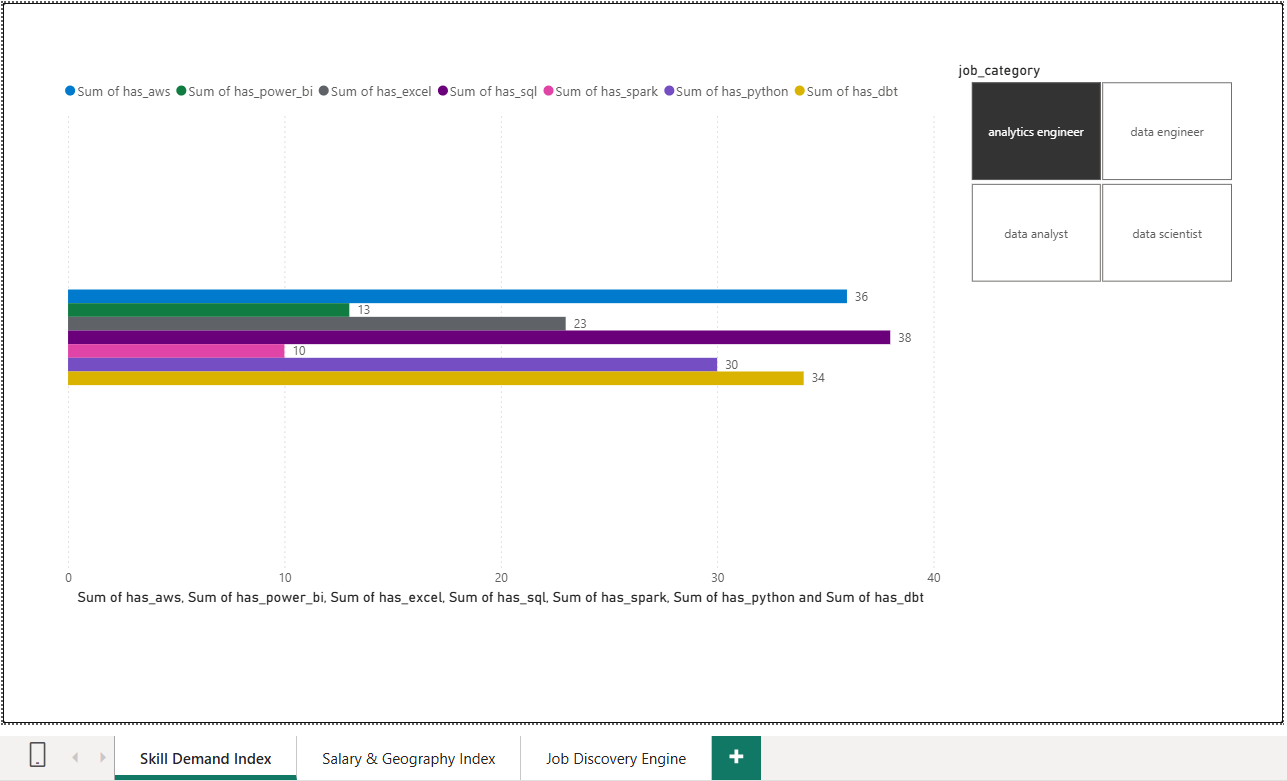

The page's visual inventory and layout, read from the dashboard file:
{"tool":"powerbi","page":{"name":"Skill Demand Index","canvas":[1280,720],"ordinal":0},"visuals":[{"type":"clusteredBarChart","fields":{"Y":["Sum(fct_job_market_insights.has_aws)","Sum(fct_job_market_insights.has_power_bi)","Sum(fct_job_market_insights.has_excel)","Sum(fct_job_market_insights.has_sql)","Sum(fct_job_market_insights.has_spark)","Sum(fct_job_market_insights.has_python)","Sum(fct_job_market_insights.has_dbt)"]},"box":[56.3,67.2,886.5,539.3],"z":0},{"type":"slicer","fields":{"Values":["fct_job_market_insights.job_category"]},"box":[942.7,53.5,310.1,231.9],"z":1000}]}

Visuals, with their boxes on the page's 1280x720 design canvas (x1, y1, x2, y2). These are canvas units, not pixel positions in the 1287x781 screenshot, which may show the page scaled, cropped or inside an application window:
clusteredBarChart - Sum(fct_job_market_insights.has_aws) x Sum(fct_job_market_insights.has_power_bi): bbox(56, 67, 943, 606)
slicer - fct_job_market_insights.job_category: bbox(943, 54, 1253, 285)
